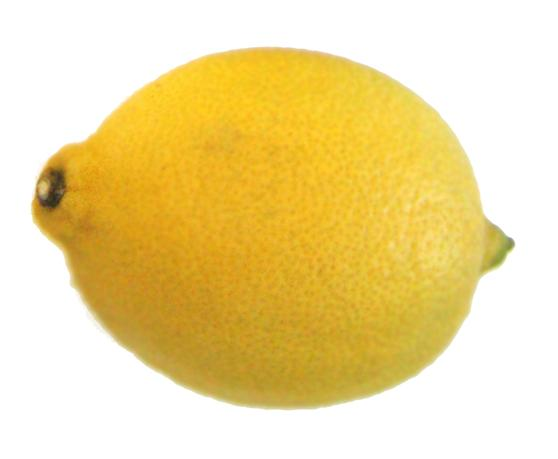lemon: (32, 46, 526, 416)
